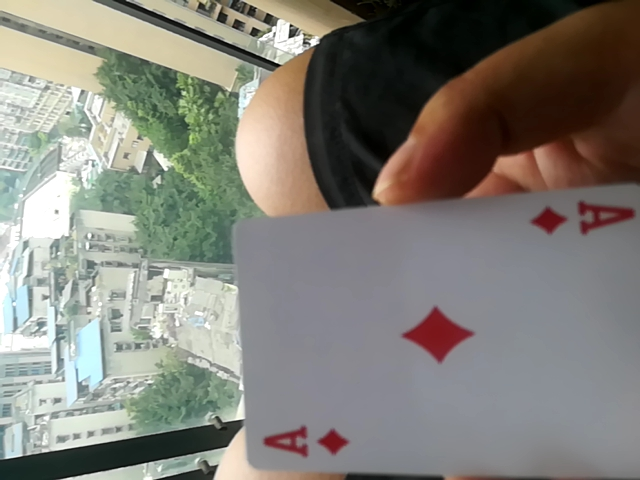fk a: (242, 179, 639, 480)
